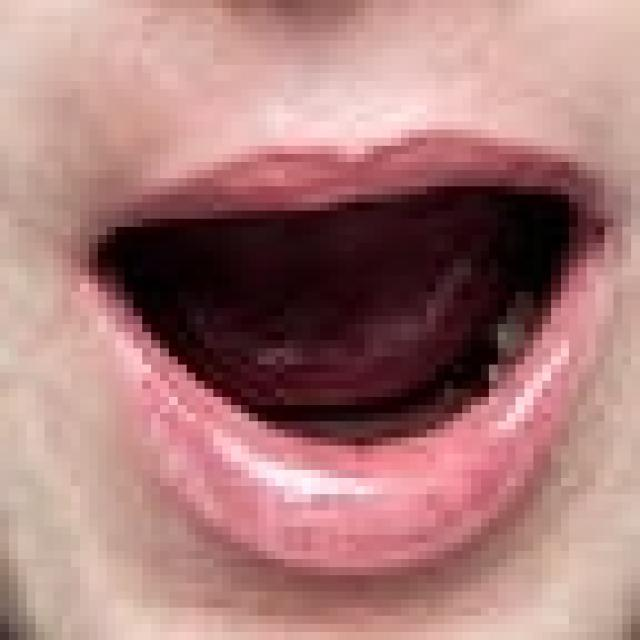open-mouth: (71, 122, 622, 576)
